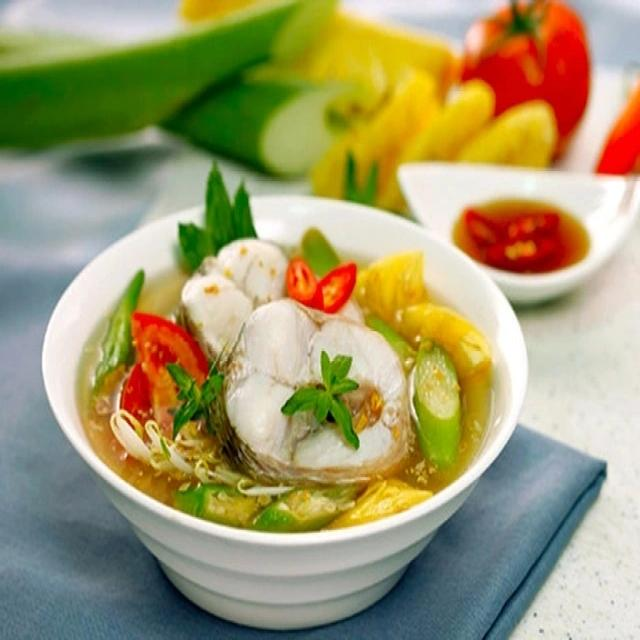canh chua: (83, 174, 494, 531)
